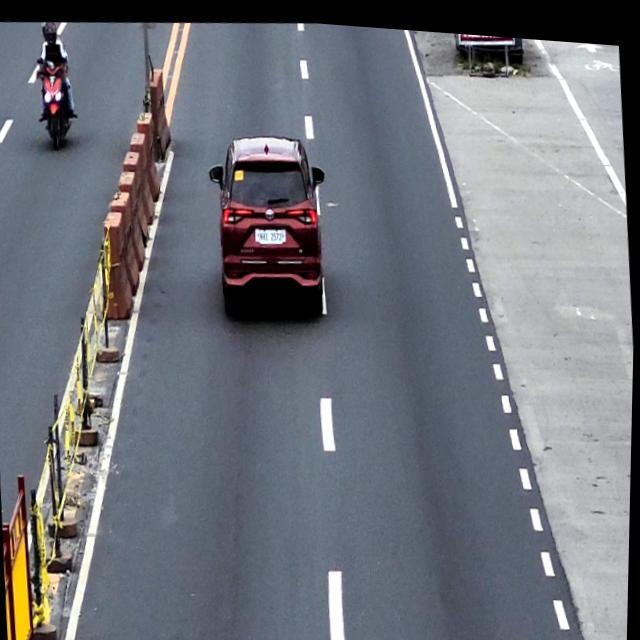Car: (203, 124, 337, 323)
License-Plate: (259, 223, 284, 240)
